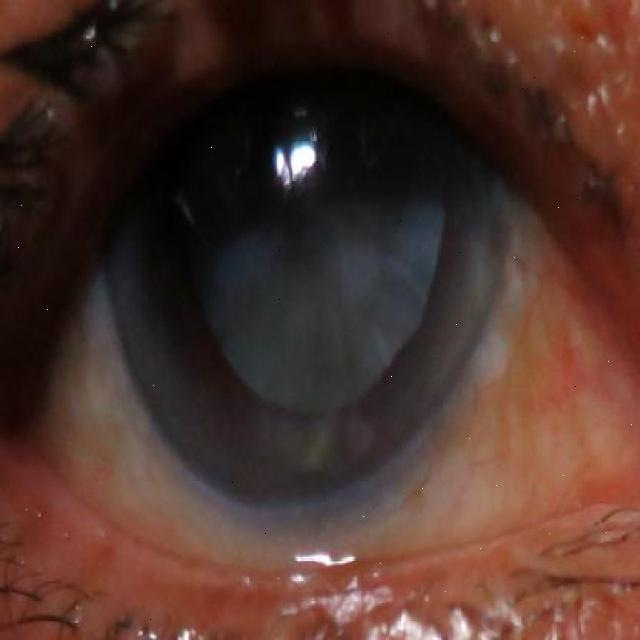Cataract: (108, 4, 514, 506)
